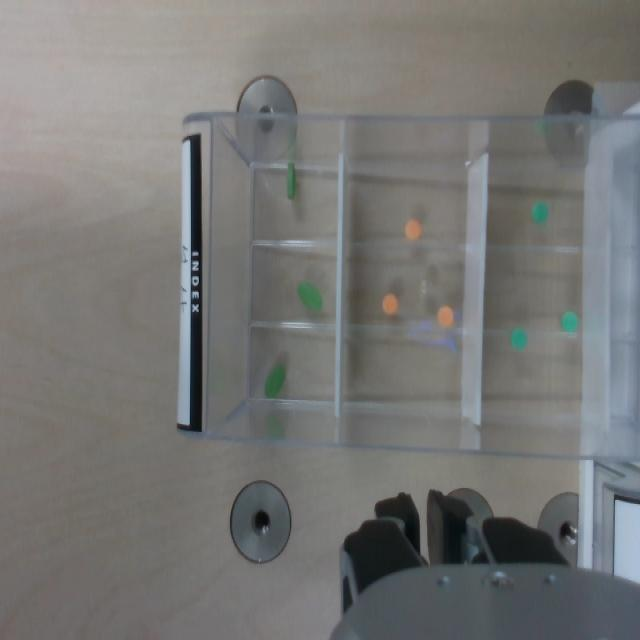famodine: (562, 312, 579, 332), (532, 201, 548, 222), (511, 328, 527, 349)
otillen_tab: (298, 278, 323, 312), (266, 361, 285, 397), (286, 160, 296, 198)
samsung_octylonium_tab: (405, 218, 420, 240), (438, 306, 454, 326), (383, 294, 398, 314)
